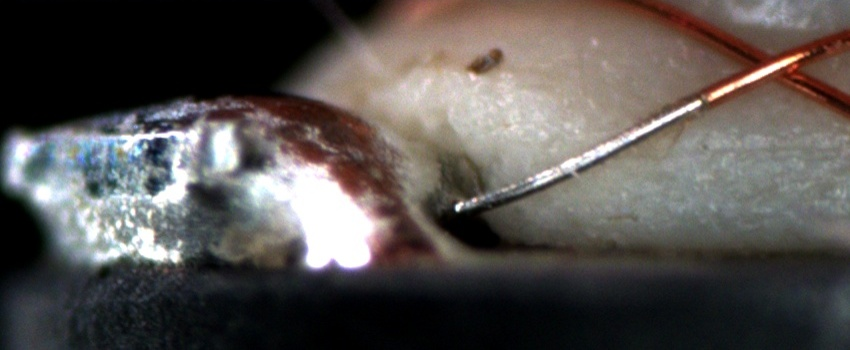CL: (724, 35, 824, 93)
DL: (710, 119, 850, 179)
TS: (454, 91, 705, 214)
